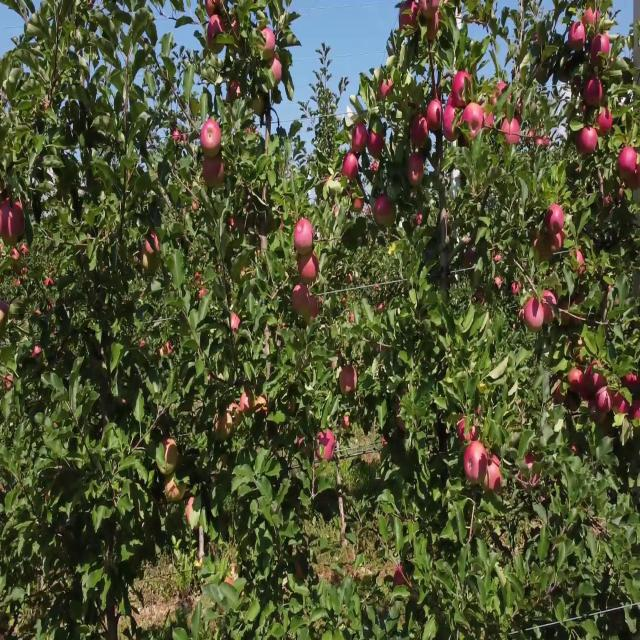apple: (464, 440, 488, 484), (516, 455, 540, 491), (200, 120, 224, 155), (140, 234, 160, 274), (208, 14, 227, 55), (444, 99, 461, 144), (204, 156, 225, 192), (524, 298, 544, 334), (420, 7, 440, 43), (484, 455, 503, 491), (296, 220, 316, 254), (620, 149, 640, 183), (464, 106, 483, 140), (568, 21, 588, 53), (376, 199, 396, 231), (452, 71, 472, 103), (412, 113, 429, 149), (304, 291, 322, 324), (588, 362, 607, 393), (584, 78, 604, 107), (592, 35, 612, 64), (300, 255, 320, 284), (580, 127, 600, 156), (316, 433, 336, 462), (352, 120, 368, 155), (596, 106, 614, 137), (428, 99, 443, 135), (408, 156, 425, 187), (340, 369, 359, 396), (164, 476, 183, 503), (400, 7, 420, 32), (164, 440, 181, 469), (260, 28, 277, 57), (496, 85, 514, 112), (460, 419, 479, 444), (464, 234, 477, 270), (292, 284, 308, 313), (536, 234, 552, 263), (268, 56, 284, 85), (568, 369, 585, 396), (216, 412, 233, 439), (504, 120, 521, 146), (12, 206, 25, 240), (548, 206, 564, 233), (544, 291, 557, 324), (572, 248, 586, 277), (228, 78, 243, 105), (560, 298, 573, 329), (344, 156, 360, 181), (584, 7, 600, 32), (204, 0, 224, 20), (0, 206, 11, 242), (144, 234, 160, 258), (464, 241, 477, 270), (396, 561, 409, 590), (252, 92, 267, 117), (368, 135, 385, 156), (596, 391, 613, 412), (616, 391, 629, 418), (628, 163, 640, 192), (380, 78, 395, 101), (552, 383, 567, 405), (600, 419, 615, 441), (240, 391, 254, 414), (196, 270, 207, 299), (580, 376, 594, 398), (160, 341, 175, 361), (484, 106, 496, 130), (256, 398, 269, 420), (228, 405, 241, 427), (296, 440, 312, 457), (232, 14, 241, 41), (552, 234, 564, 254), (624, 376, 640, 391), (188, 497, 196, 526), (232, 220, 247, 235), (208, 0, 219, 20), (568, 398, 581, 414), (632, 398, 640, 423), (228, 568, 238, 588), (232, 312, 241, 334), (412, 213, 424, 229), (368, 163, 380, 178), (512, 284, 524, 299), (272, 92, 284, 107), (396, 419, 406, 436), (4, 376, 15, 391), (476, 291, 487, 306), (0, 305, 8, 325), (32, 348, 43, 361), (496, 277, 504, 292), (356, 199, 364, 213), (572, 447, 581, 457), (344, 419, 352, 428), (496, 255, 503, 265), (200, 291, 207, 299), (140, 341, 147, 348)
